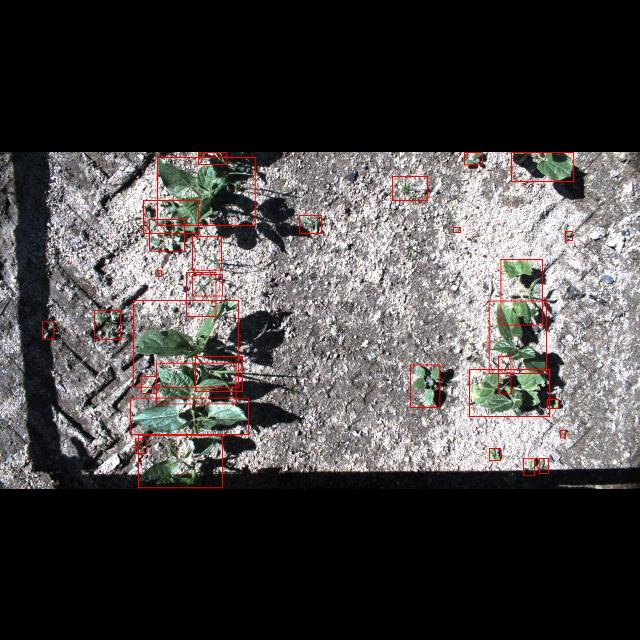crop: (133, 299, 239, 386), (157, 156, 255, 224), (138, 434, 222, 488), (130, 398, 248, 434), (489, 300, 547, 372), (470, 369, 550, 416), (156, 362, 236, 403), (501, 259, 543, 325), (512, 151, 574, 181), (199, 151, 227, 163)
weed: (144, 199, 198, 233), (195, 356, 242, 390), (410, 364, 440, 408), (186, 271, 216, 315), (150, 218, 184, 250), (192, 236, 222, 270), (392, 175, 428, 199), (94, 310, 120, 338), (192, 274, 222, 296), (499, 355, 511, 393), (300, 215, 322, 233), (142, 376, 156, 394), (464, 152, 482, 164), (42, 322, 54, 338), (136, 438, 146, 454), (524, 459, 534, 475), (539, 458, 549, 472), (490, 448, 500, 460), (548, 398, 558, 408), (566, 230, 572, 240), (560, 430, 566, 438), (454, 226, 461, 232), (156, 270, 162, 276)
